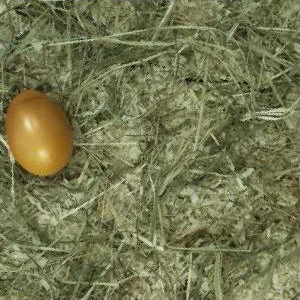egg: (6, 90, 73, 176)
